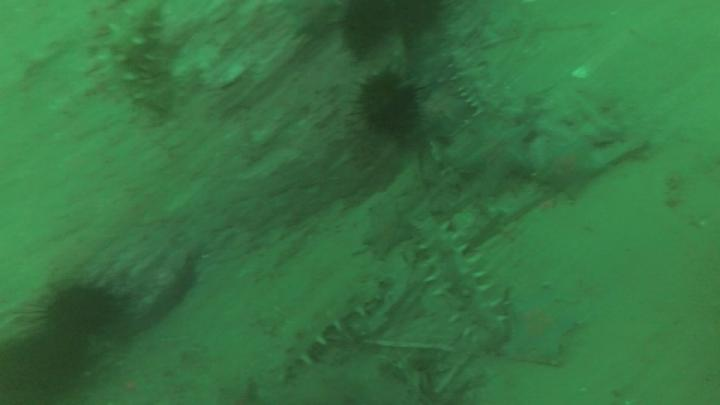echinus: (361, 74, 416, 133), (55, 285, 113, 334)
holothurian: (414, 218, 503, 337), (279, 279, 378, 383), (109, 4, 166, 104), (448, 51, 504, 115)
scallop: (573, 65, 592, 80)
starfish: (509, 287, 579, 363), (462, 124, 534, 193), (539, 142, 605, 197), (366, 209, 403, 256)
